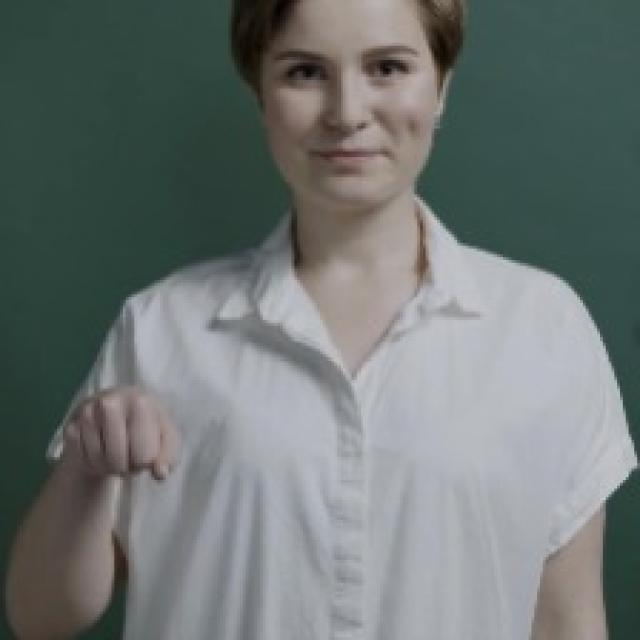yes: (59, 381, 186, 486)
